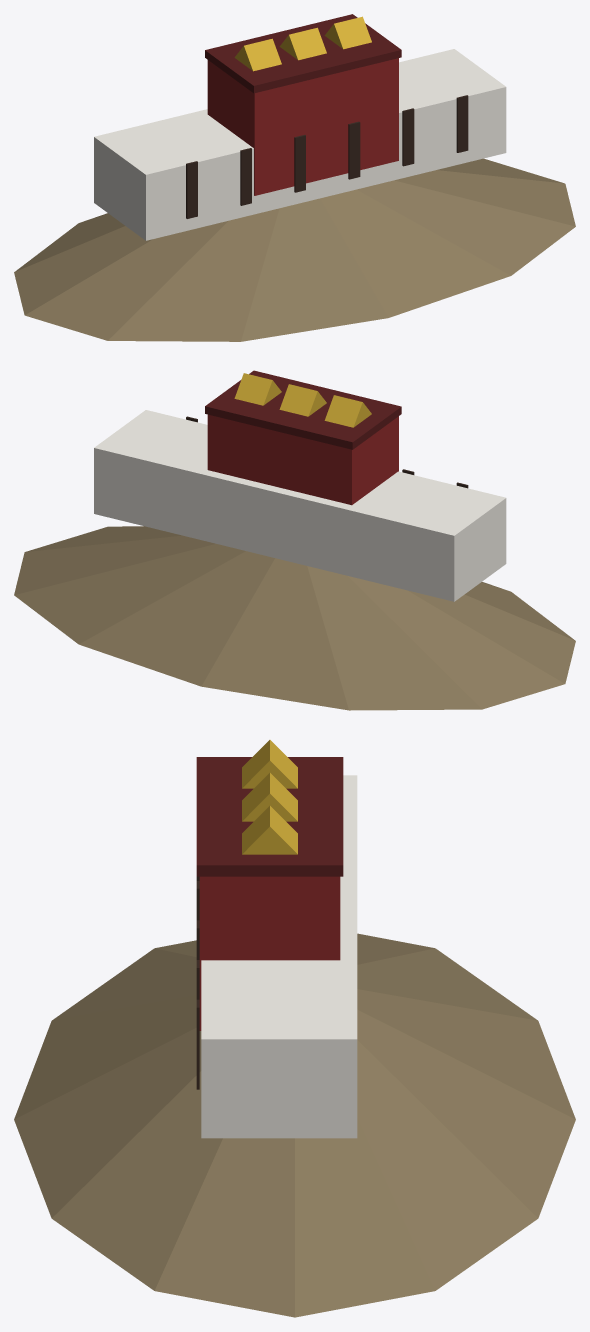
File: potala-palace.glb
3 views of the same model, one above another, from view 1: azimuth 30°, elevation 25°; view 2: azimuth 150°, elevation 25°; view 3: azimuth 270°, elevation 25° (orthographic). The views are drawn at different scales.
Parts seen in each view (by area): view 1: potala-palace; view 2: potala-palace; view 3: potala-palace.
Part boxes in pixels (x1,y1,x2,y2): potala-palace: (14, 14, 575, 341); potala-palace: (14, 370, 575, 710); potala-palace: (14, 740, 575, 1317).
Bounding box in the file's own units: 2.52 × 1 × 1.51.
